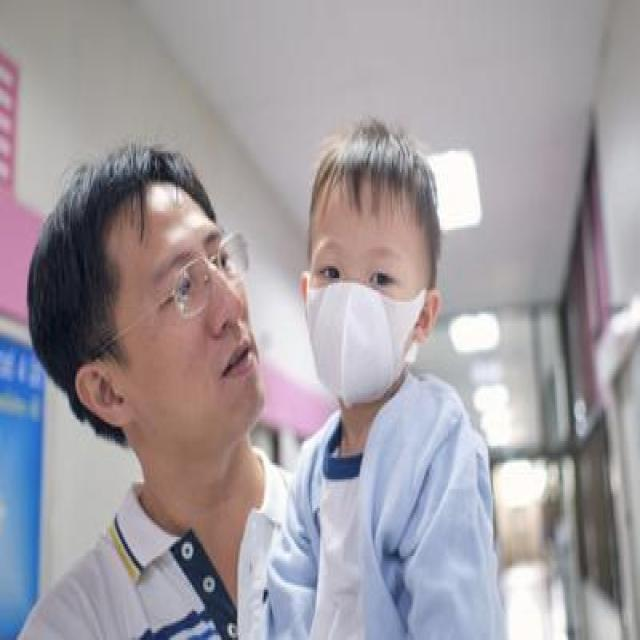with_mask: (307, 229, 428, 409)
without_mask: (129, 219, 267, 454)
